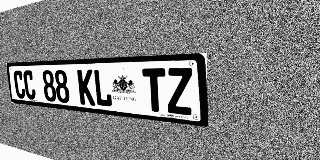8: (54, 70, 70, 103), (42, 70, 57, 102)
C: (23, 70, 36, 100), (13, 70, 26, 99)
K: (77, 69, 95, 106)
L: (93, 69, 113, 108)
T: (142, 68, 167, 113)
Z: (166, 68, 193, 116)
